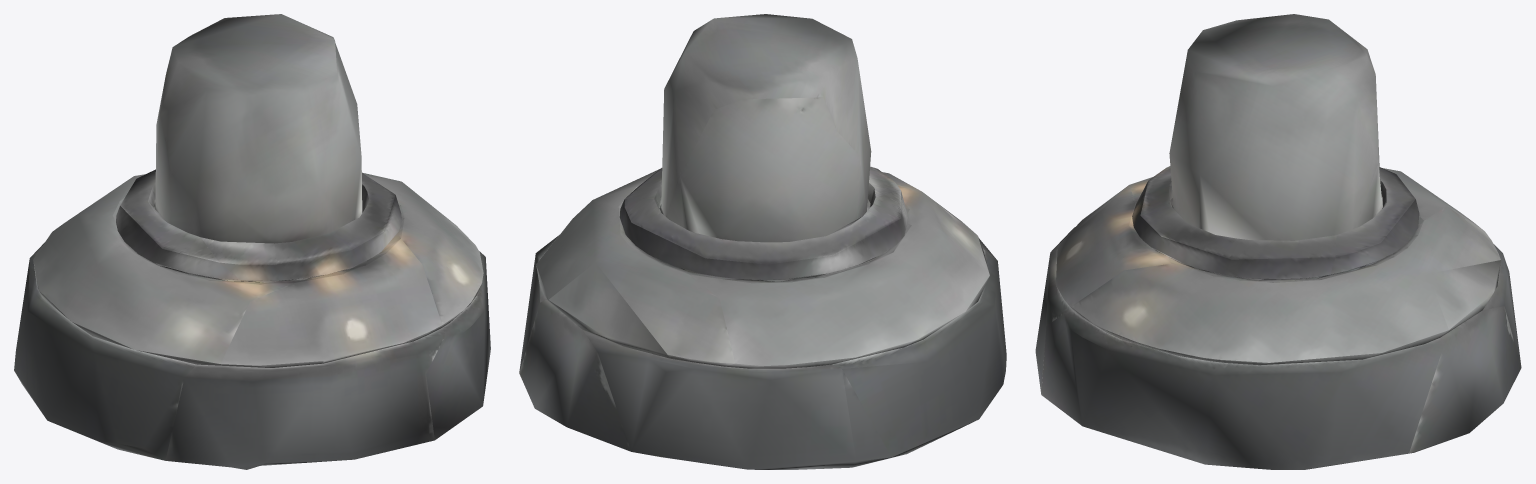
Rendered from m2ColorSwitch.glb.
3 views of the same model, side by side, from view 1: azimuth 30°, elevation 25°; view 2: azimuth 150°, elevation 25°; view 3: azimuth 270°, elevation 25° (orthographic).
Parts seen in each view (by area): view 1: model; view 2: model; view 3: model.
Part boxes in pixels (bbox=[...]): model: bbox=[14, 14, 490, 469]; model: bbox=[519, 14, 1006, 469]; model: bbox=[1035, 14, 1521, 469].
Bounding box in the file's own units: 1.89 × 1.4 × 1.88.
Materials: 1 (1 with a texture image).
